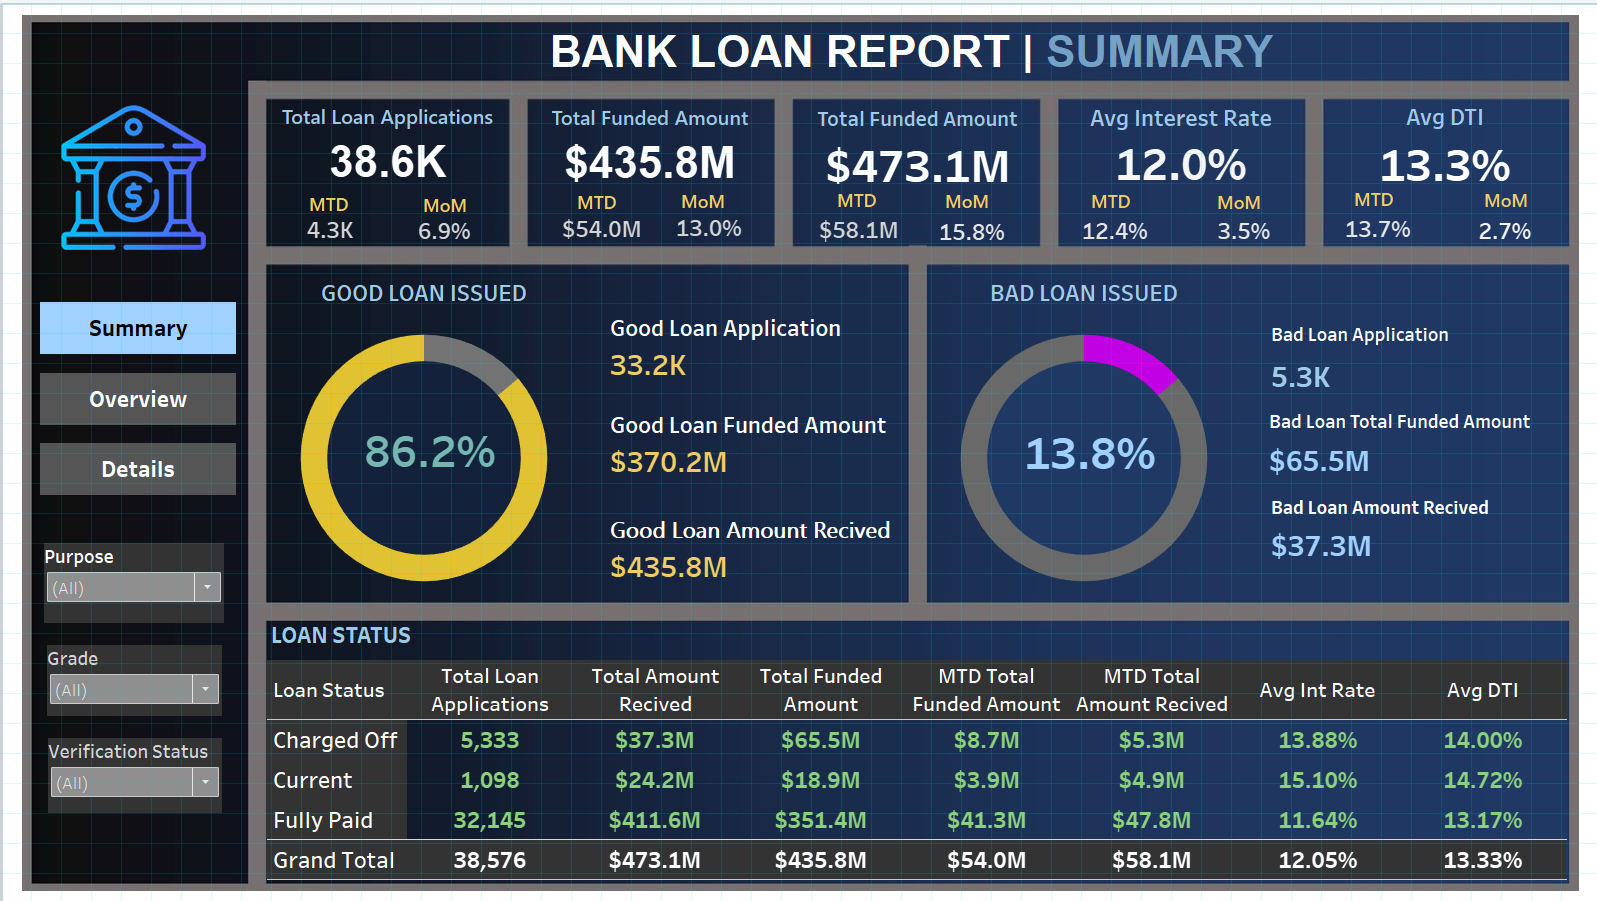

Layout of this report page (visuals, bound fields, positions):
{"tool":"tableau","page":{"name":"SUMMARY","canvas":[1600,900],"ordinal":2},"visuals":[{"type":"image","param":"M:/tableau dashboard/Tableau Background 1.jpg","box":[8,8,1584,884]},{"type":"text","box":[545,29,732,41]},{"type":"image","param":"M:/tableau dashboard/images-removebg-preview.png","box":[50,92,185,165]},{"type":"worksheet","title":"Avg DTI","mark":"Automatic","box":[1321,94,246,86]},{"type":"worksheet","title":"Total Loan Applications","mark":"Automatic","box":[264,95,245,85]},{"type":"worksheet","title":"Avg Interest Rate","mark":"Automatic","box":[1056,95,248,83]},{"type":"worksheet","title":"Total Funded Amount","mark":"Automatic","box":[525,96,248,85]},{"type":"worksheet","title":"Total Amount Recived","mark":"Automatic","box":[792,97,249,84]},{"type":"text","box":[1479,181,71,31]},{"type":"text","box":[676,182,71,31]},{"type":"text","box":[940,182,71,31]},{"type":"text","box":[1212,183,71,31]},{"type":"text","box":[418,186,71,32]},{"type":"text","box":[1349,186,50,20]},{"type":"text","box":[832,187,50,20]},{"type":"text","box":[1086,188,50,20]},{"type":"text","box":[572,189,50,20]},{"type":"text","box":[304,191,50,20]},{"type":"worksheet","title":"MTD Avg DTI","mark":"Automatic","box":[1339,199,76,52]},{"type":"worksheet","title":"MoM Avg Int Rate","mark":"Automatic","box":[1202,203,81,47]},{"type":"worksheet","title":"MoM Total Funded Amount","mark":"Automatic","box":[666,210,84,28]},{"type":"worksheet","title":"MoM Avg DTI","mark":"Automatic","box":[1454,210,100,33]},{"type":"worksheet","title":"MTD Total Amount Recived","mark":"Automatic","box":[809,211,97,30]},{"type":"worksheet","title":"MTD Total Loan Applications","mark":"Automatic","box":[296,213,66,25]},{"type":"worksheet","title":"MoM Loan Applications","mark":"Automatic","box":[413,213,60,27]},{"type":"worksheet","title":"MTD Avg INT Rate","mark":"Automatic","box":[1073,213,82,27]},{"type":"worksheet","title":"MTD Total Funded Amount","mark":"Automatic","box":[556,214,90,22]},{"type":"worksheet","title":"MoM Total Amount Recived","mark":"Automatic","box":[932,214,78,27]},{"type":"worksheet","title":"Good Loan Issued","mark":"Pie","rows":["Calculation_1836342767148404769","Calculation_1836342767148404769"],"box":[273,270,300,325]},{"type":"worksheet","title":"Bad Loan Issued","mark":"Pie","rows":["Calculation_1836342767148404769","Calculation_1836342767148404769"],"box":[933,270,300,325]},{"type":"dashboard-object","box":[39,299,196,52]},{"type":"worksheet","title":"Good Loan Application","mark":"Automatic","box":[601,301,300,75]},{"type":"worksheet","title":"Bad Loan Application ","mark":"Automatic","box":[1266,314,300,80]},{"type":"dashboard-object","box":[39,370,196,52]},{"type":"worksheet","title":"Bad Loan Application % ","mark":"Automatic","box":[1002,393,173,86]},{"type":"worksheet","title":"Bad Loan Total Funded Amount","mark":"Automatic","box":[1260,397,300,80]},{"type":"worksheet","title":"Good Loan Funded Amount","mark":"Automatic","box":[601,398,300,75]},{"type":"worksheet","title":"Good Loan Application %","mark":"Automatic","box":[342,405,173,82]},{"type":"dashboard-object","box":[39,440,196,52]},{"type":"worksheet","title":"Bad Loan Amount Recived ","mark":"Automatic","box":[1262,483,300,77]},{"type":"worksheet","title":"Good Loan Amount Recived","mark":"Automatic","box":[601,503,300,75]},{"type":"filter","title":"Good Loan Issued","param":"[federated.0cwbiav12vk9u31ck76nl0ow8zpv].[none:purpose:nk]","box":[43,540,180,80]},{"type":"worksheet","title":"Loan Status ","mark":"Automatic","rows":["loan_status"],"box":[266,612,1300,265]},{"type":"filter","title":"Good Loan Issued","param":"[federated.0cwbiav12vk9u31ck76nl0ow8zpv].[none:grade:nk]","box":[46,642,175,71]},{"type":"filter","title":"Good Loan Issued","param":"[federated.0cwbiav12vk9u31ck76nl0ow8zpv].[none:verification_status:nk]","box":[47,735,174,75]}]}

Visuals, with their boxes in screenshot pixels (x1, y1, x2, y2), scaled from the page's 1600x900 canvas onto the 1597x901 screenshot:
image: [left=8, top=8, right=1589, bottom=893]
text: [left=544, top=29, right=1275, bottom=70]
image: [left=50, top=92, right=235, bottom=257]
"Avg DTI" worksheet: [left=1319, top=94, right=1564, bottom=180]
"Total Loan Applications" worksheet: [left=264, top=95, right=508, bottom=180]
"Avg Interest Rate" worksheet: [left=1054, top=95, right=1302, bottom=178]
"Total Funded Amount" worksheet: [left=524, top=96, right=772, bottom=181]
"Total Amount Recived" worksheet: [left=791, top=97, right=1039, bottom=181]
text: [left=1476, top=181, right=1547, bottom=212]
text: [left=675, top=182, right=746, bottom=213]
text: [left=938, top=182, right=1009, bottom=213]
text: [left=1210, top=183, right=1281, bottom=214]
text: [left=417, top=186, right=488, bottom=218]
text: [left=1346, top=186, right=1396, bottom=206]
text: [left=830, top=187, right=880, bottom=207]
text: [left=1084, top=188, right=1134, bottom=208]
text: [left=571, top=189, right=621, bottom=209]
text: [left=303, top=191, right=353, bottom=211]
"MTD Avg DTI" worksheet: [left=1336, top=199, right=1412, bottom=251]
"MoM Avg Int Rate" worksheet: [left=1200, top=203, right=1281, bottom=250]
"MoM Total Funded Amount" worksheet: [left=665, top=210, right=749, bottom=238]
"MoM Avg DTI" worksheet: [left=1451, top=210, right=1551, bottom=243]
"MTD Total Amount Recived" worksheet: [left=807, top=211, right=904, bottom=241]
"MTD Total Loan Applications" worksheet: [left=295, top=213, right=361, bottom=238]
"MoM Loan Applications" worksheet: [left=412, top=213, right=472, bottom=240]
"MTD Avg INT Rate" worksheet: [left=1071, top=213, right=1153, bottom=240]
"MTD Total Funded Amount" worksheet: [left=555, top=214, right=645, bottom=236]
"MoM Total Amount Recived" worksheet: [left=930, top=214, right=1008, bottom=241]
"Good Loan Issued" worksheet (Pie marks): [left=272, top=270, right=572, bottom=596]
"Bad Loan Issued" worksheet (Pie marks): [left=931, top=270, right=1231, bottom=596]
dashboard-object: [left=39, top=299, right=235, bottom=351]
"Good Loan Application" worksheet: [left=600, top=301, right=899, bottom=376]
"Bad Loan Application " worksheet: [left=1264, top=314, right=1563, bottom=394]
dashboard-object: [left=39, top=370, right=235, bottom=422]
"Bad Loan Application % " worksheet: [left=1000, top=393, right=1173, bottom=480]
"Bad Loan Total Funded Amount" worksheet: [left=1258, top=397, right=1557, bottom=478]
"Good Loan Funded Amount" worksheet: [left=600, top=398, right=899, bottom=474]
"Good Loan Application %" worksheet: [left=341, top=405, right=514, bottom=488]
dashboard-object: [left=39, top=440, right=235, bottom=493]
"Bad Loan Amount Recived " worksheet: [left=1260, top=484, right=1559, bottom=561]
"Good Loan Amount Recived" worksheet: [left=600, top=504, right=899, bottom=579]
"Good Loan Issued" filter: [left=43, top=541, right=223, bottom=621]
"Loan Status " worksheet: [left=266, top=613, right=1563, bottom=878]
"Good Loan Issued" filter: [left=46, top=643, right=221, bottom=714]
"Good Loan Issued" filter: [left=47, top=736, right=221, bottom=811]
